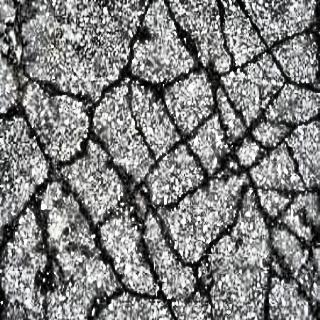alligator-crack: (1, 1, 319, 320)
